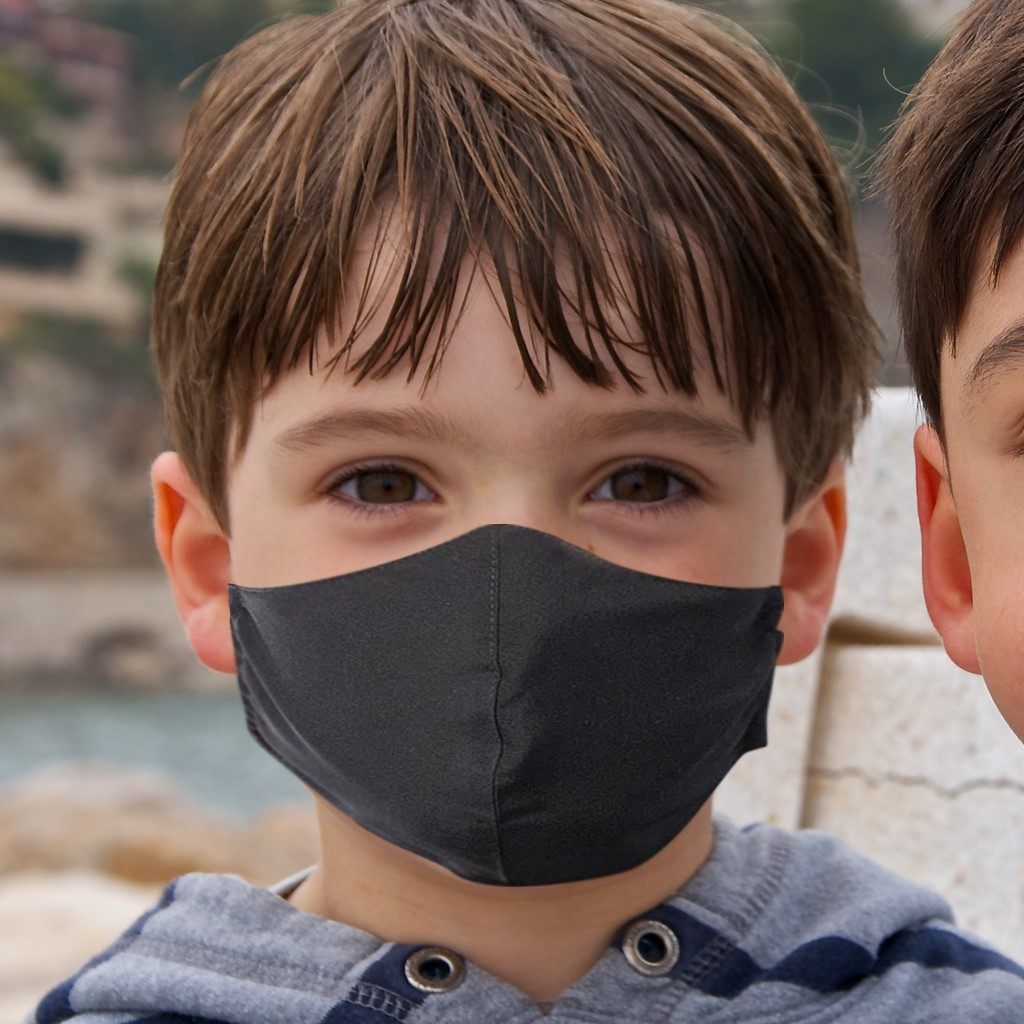con_mascara: (202, 137, 807, 893)
